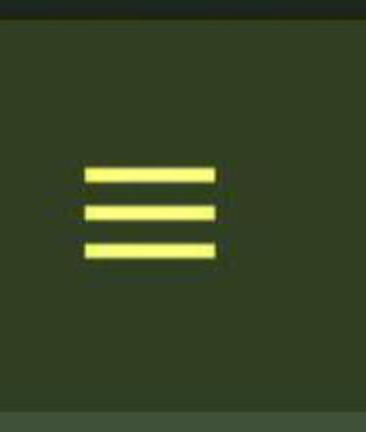ImgButton: (1, 1, 365, 431)
